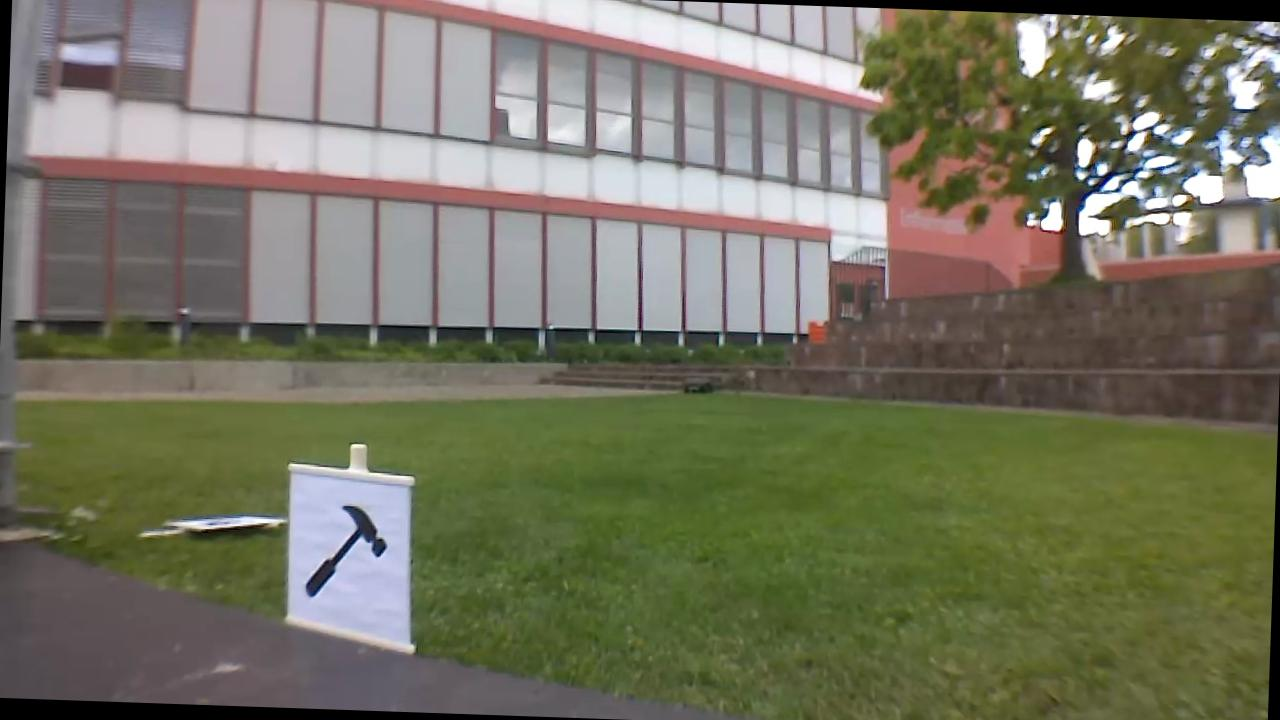hammer: (294, 493, 396, 612)
